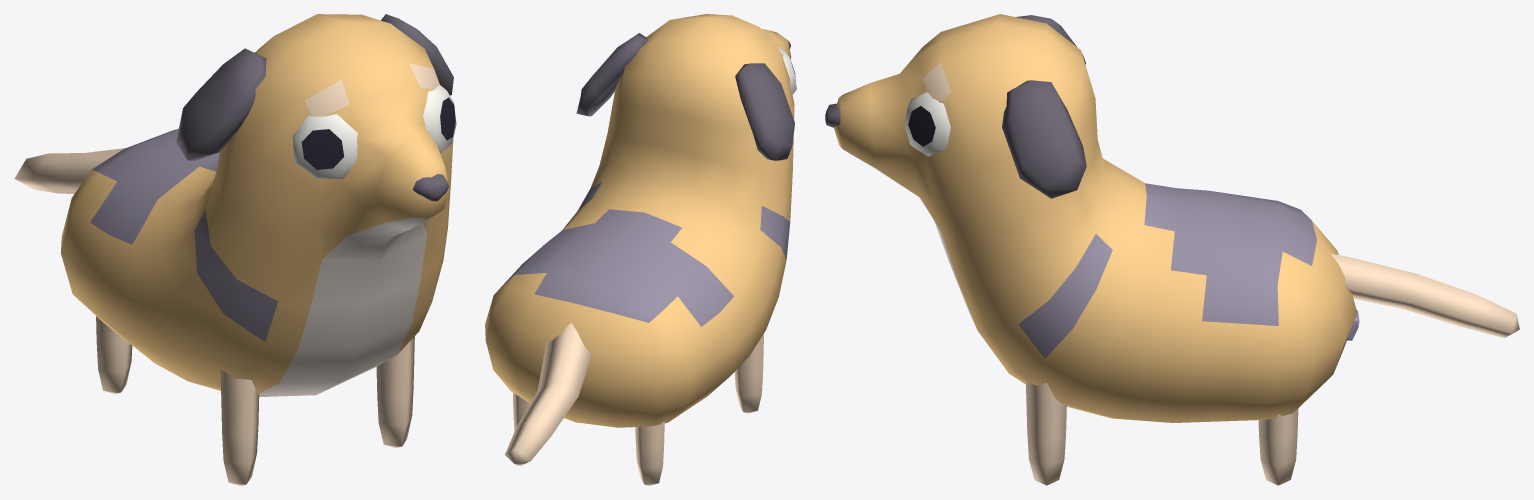
File: Dog_LOD2.obj
The picture shows the model from 3 angles, left to right: view 1: azimuth 30°, elevation 25°; view 2: azimuth 150°, elevation 25°; view 3: azimuth 270°, elevation 25°; orthographic projection. The views are drawn at different scales.
Parts seen in each view (by area): view 1: Dog_Cube.005; view 2: Dog_Cube.005; view 3: Dog_Cube.005.
Boxes of the visible parts, x1,y1,x2,y2 form: Dog_Cube.005: (14,14,456,485); Dog_Cube.005: (485,14,796,485); Dog_Cube.005: (825,14,1519,485).
Bounding box in the file's own units: 1.28 × 2.05 × 3.01.
